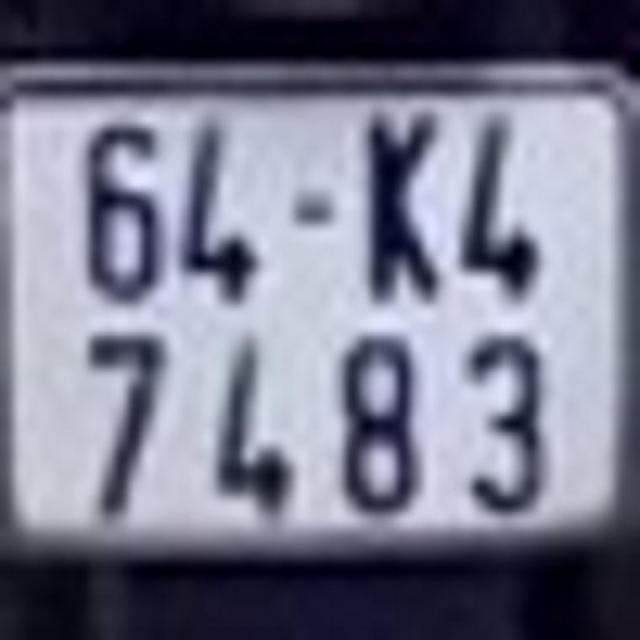3: (462, 328, 542, 514)
4: (457, 110, 539, 304), (178, 119, 258, 307), (216, 332, 295, 516)
6: (87, 123, 157, 300)
7: (86, 332, 165, 519)
8: (340, 332, 414, 514)
K: (363, 108, 440, 303)
